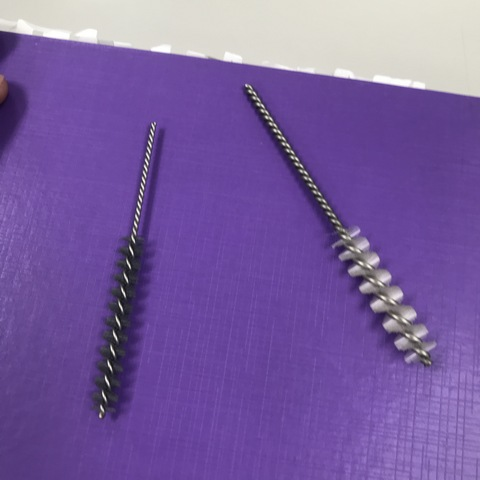Twist Brush-A: (87, 123, 165, 420)
Twist Brush-B: (239, 83, 443, 370)
